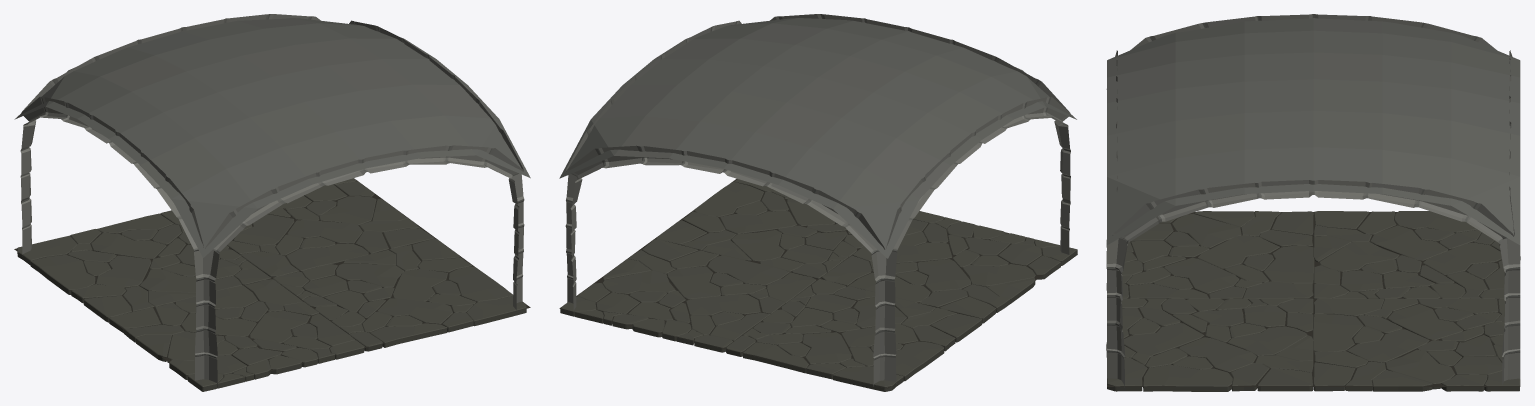
Rendered from Dungeon_Big.001.glb.
The picture shows the model from 3 angles, left to right: view 1: azimuth 30°, elevation 25°; view 2: azimuth 150°, elevation 25°; view 3: azimuth 270°, elevation 25°; orthographic projection. The views are drawn at different scales.
Parts seen in each view (by area): view 1: Dungeon_Big.002; view 2: Dungeon_Big.002; view 3: Dungeon_Big.002.
Part boxes in pixels (box(x1,y1,x2,y2)): Dungeon_Big.002: box(14, 14, 530, 391); Dungeon_Big.002: box(559, 14, 1077, 391); Dungeon_Big.002: box(1106, 14, 1520, 391).
Bounding box in the file's own units: 8.03 × 4.82 × 8.01.
2 materials, 2 textured.
